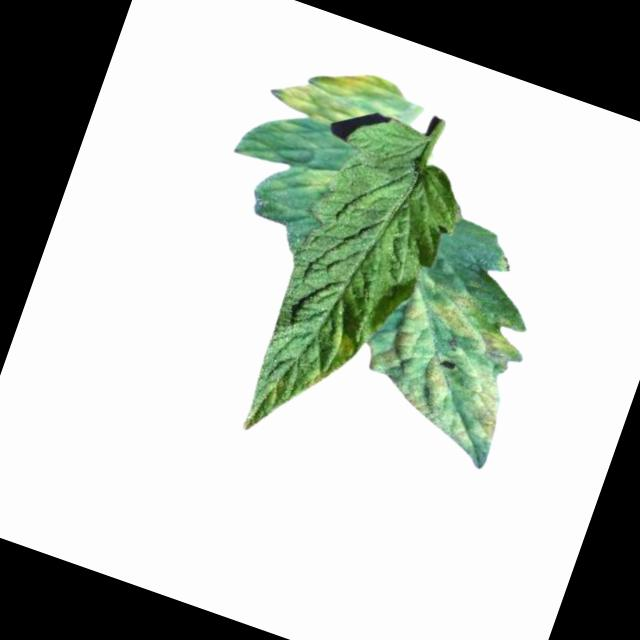Leaf_Mold: (351, 262, 543, 458), (268, 42, 409, 148), (300, 160, 343, 199), (323, 328, 362, 364)
